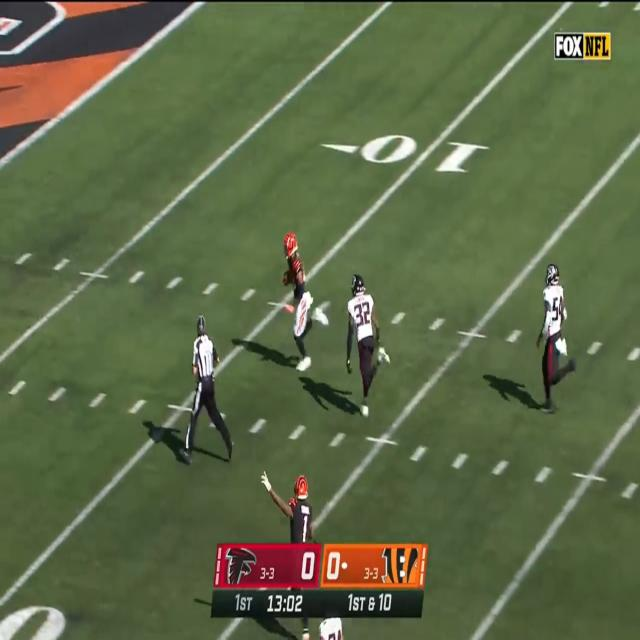Ball: (281, 266, 292, 287)
